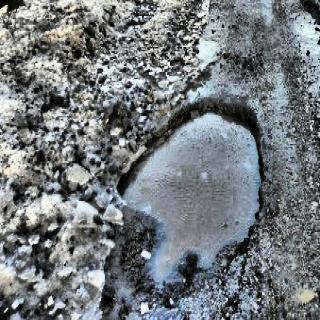pothole: (112, 107, 282, 296)
